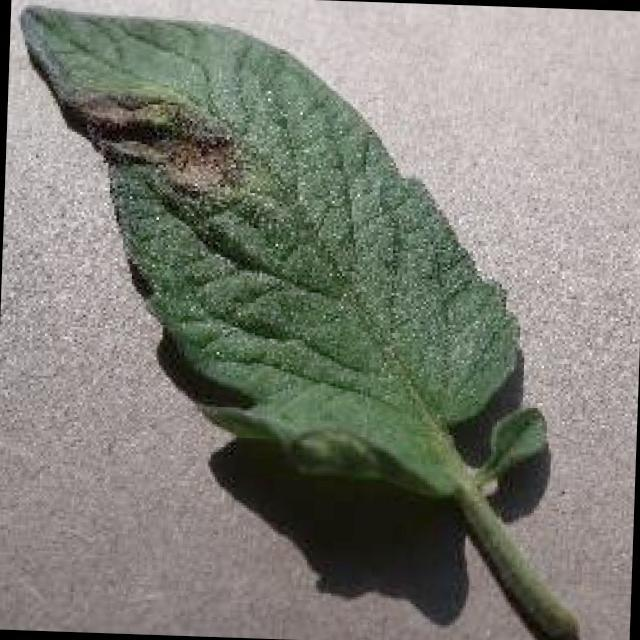Tomato late blight leaf: (2, 2, 532, 506)
